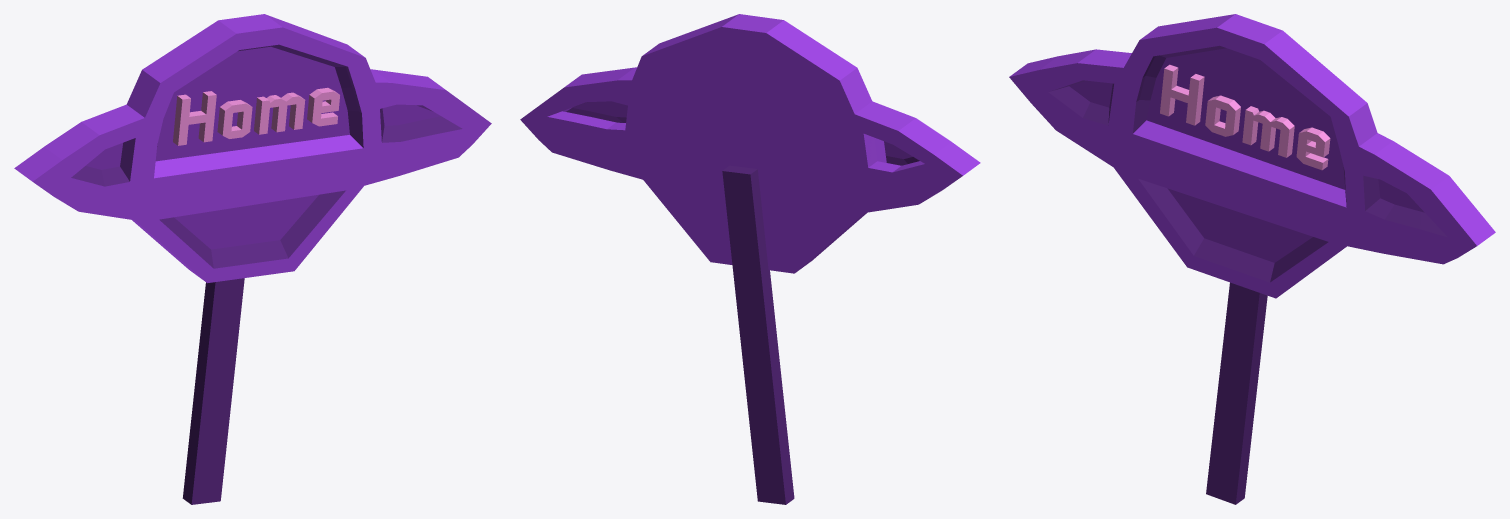
File: HomeStick.fbx
The picture shows the model from 3 angles, left to right: view 1: azimuth 30°, elevation 25°; view 2: azimuth 150°, elevation 25°; view 3: azimuth 330°, elevation 25°; orthographic projection. The views are drawn at different scales.
Parts seen in each view (by area): view 1: HomeStick; view 2: HomeStick; view 3: HomeStick.
Part boxes in pixels (bbox=[...]): HomeStick: bbox=[14, 14, 491, 504]; HomeStick: bbox=[520, 14, 980, 504]; HomeStick: bbox=[1009, 14, 1495, 504].
Bounding box in the file's own units: 1049 × 1048 × 102.
